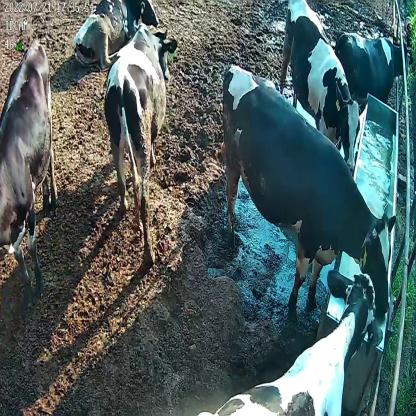cow: (220, 64, 399, 322), (197, 267, 386, 416), (104, 25, 176, 257), (280, 0, 370, 174), (0, 39, 61, 294), (70, 0, 167, 65), (333, 26, 414, 102)
